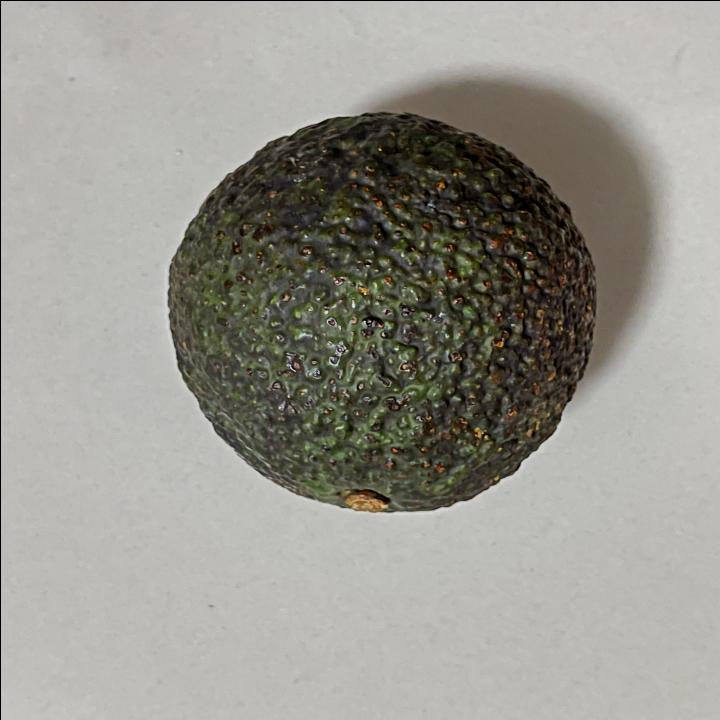Level1: (151, 101, 606, 531)
